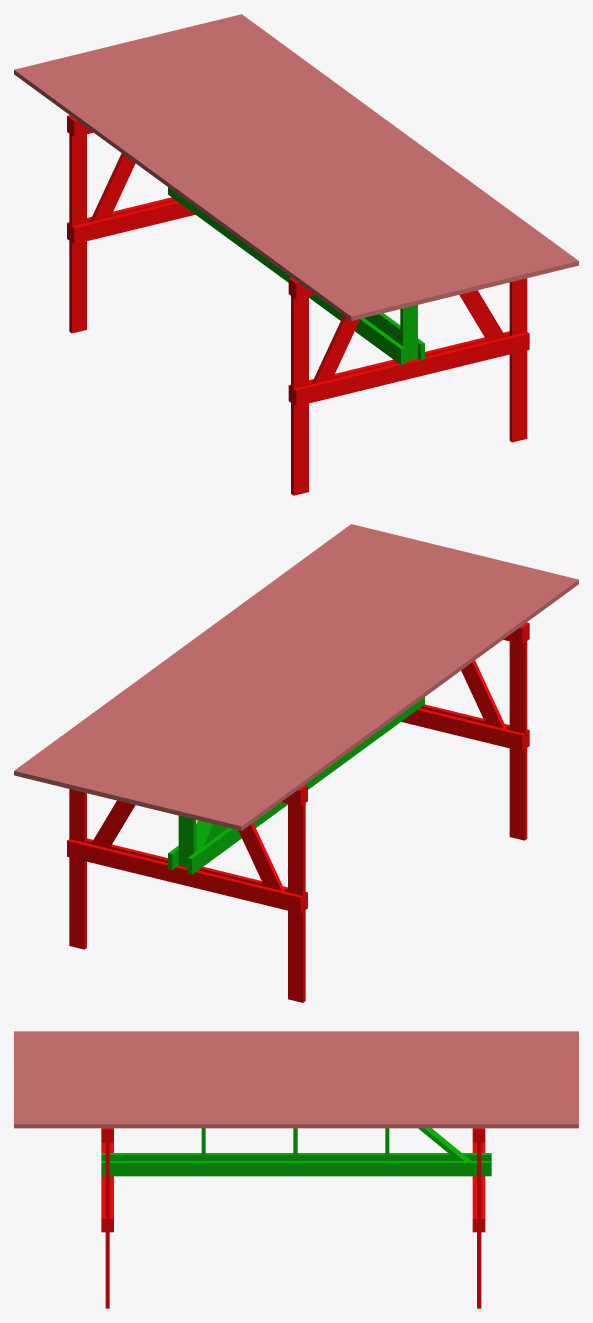
Rendered from result.glb.
3 views of the same model, one above another, from view 1: azimuth 30°, elevation 25°; view 2: azimuth 150°, elevation 25°; view 3: azimuth 270°, elevation 25° (orthographic). The views are drawn at different scales.
Parts seen in each view (by area): view 1: 9bc84eb1-03e1-45ee-a88c-ccbbb989a937__Box, c5a931a0-828d-4adb-a251-cc2c21c2d503__undefined, 3ec693f4-8fe5-41ec-811d-88a79b34b325__undefined, 540e3104-9ef1-44bf-827d-3d7c2c09de3e__undefined, bd70a412-14cf-4a78-8960-72526012d6fa__undefined, ecd26ba5-aca4-412c-b7bd-82bba1157a99__undefined, 86281dc9-8165-4b99-a383-774ae418dc2d__undefined, 9d4ee5ad-2588-4c36-90eb-bb3e7bf72439__undefined, 9155fd17-6712-49ab-812e-ac220a992259__undefined, f73ac96b-236f-46c5-87e6-874192650798__undefined, 0cfdb312-2d46-4ac2-af5d-affc9c7d1033__undefined, fdcb1d0b-4bd2-41e8-ae14-8c38de788567__undefined (+15 smaller); view 2: 9bc84eb1-03e1-45ee-a88c-ccbbb989a937__Box, f73ac96b-236f-46c5-87e6-874192650798__undefined, 9155fd17-6712-49ab-812e-ac220a992259__undefined, bd70a412-14cf-4a78-8960-72526012d6fa__undefined, de7d56db-246a-4881-ac97-5ee7680ed403__undefined, fdcb1d0b-4bd2-41e8-ae14-8c38de788567__undefined, 540e3104-9ef1-44bf-827d-3d7c2c09de3e__undefined, ecd26ba5-aca4-412c-b7bd-82bba1157a99__undefined, 3ec693f4-8fe5-41ec-811d-88a79b34b325__undefined, 9d4ee5ad-2588-4c36-90eb-bb3e7bf72439__undefined, 86281dc9-8165-4b99-a383-774ae418dc2d__undefined, c5a931a0-828d-4adb-a251-cc2c21c2d503__undefined (+14 smaller); view 3: 9d4ee5ad-2588-4c36-90eb-bb3e7bf72439__undefined, 5f4642fd-db75-4013-a054-c6bce34e5723__strutH, 9bc84eb1-03e1-45ee-a88c-ccbbb989a937__Box, c5a931a0-828d-4adb-a251-cc2c21c2d503__undefined, 9155fd17-6712-49ab-812e-ac220a992259__undefined, c77f9ac4-b38d-4050-8157-9424ea226b90__undefined, f73ac96b-236f-46c5-87e6-874192650798__undefined, 540e3104-9ef1-44bf-827d-3d7c2c09de3e__undefined, ecd26ba5-aca4-412c-b7bd-82bba1157a99__undefined, de7d56db-246a-4881-ac97-5ee7680ed403__undefined, d4083153-6d66-4f59-953f-f2ba21c75f4a__undefined, 0cfdb312-2d46-4ac2-af5d-affc9c7d1033__undefined (+8 smaller).
Part boxes in pixels (bbox=[...]): 9bc84eb1-03e1-45ee-a88c-ccbbb989a937__Box: bbox=[14, 66, 366, 320]; c5a931a0-828d-4adb-a251-cc2c21c2d503__undefined: bbox=[29, 62, 381, 317]; 3ec693f4-8fe5-41ec-811d-88a79b34b325__undefined: bbox=[196, 21, 548, 276]; 540e3104-9ef1-44bf-827d-3d7c2c09de3e__undefined: bbox=[105, 44, 457, 298]; bd70a412-14cf-4a78-8960-72526012d6fa__undefined: bbox=[60, 55, 411, 309]; ecd26ba5-aca4-412c-b7bd-82bba1157a99__undefined: bbox=[120, 40, 472, 294]; 86281dc9-8165-4b99-a383-774ae418dc2d__undefined: bbox=[211, 18, 563, 272]; 9d4ee5ad-2588-4c36-90eb-bb3e7bf72439__undefined: bbox=[227, 14, 578, 268]; 9155fd17-6712-49ab-812e-ac220a992259__undefined: bbox=[45, 58, 396, 313]; f73ac96b-236f-46c5-87e6-874192650798__undefined: bbox=[90, 47, 442, 302]; 0cfdb312-2d46-4ac2-af5d-affc9c7d1033__undefined: bbox=[166, 29, 518, 283]; fdcb1d0b-4bd2-41e8-ae14-8c38de788567__undefined: bbox=[181, 25, 533, 280]; 9bc84eb1-03e1-45ee-a88c-ccbbb989a937__Box: bbox=[226, 576, 578, 830]; f73ac96b-236f-46c5-87e6-874192650798__undefined: bbox=[150, 557, 502, 812]; 9155fd17-6712-49ab-812e-ac220a992259__undefined: bbox=[196, 568, 548, 823]; bd70a412-14cf-4a78-8960-72526012d6fa__undefined: bbox=[181, 565, 532, 819]; de7d56db-246a-4881-ac97-5ee7680ed403__undefined: bbox=[105, 546, 456, 801]; fdcb1d0b-4bd2-41e8-ae14-8c38de788567__undefined: bbox=[59, 535, 411, 789]; 540e3104-9ef1-44bf-827d-3d7c2c09de3e__undefined: bbox=[135, 553, 487, 808]; ecd26ba5-aca4-412c-b7bd-82bba1157a99__undefined: bbox=[120, 550, 471, 804]; 3ec693f4-8fe5-41ec-811d-88a79b34b325__undefined: bbox=[44, 531, 396, 786]; 9d4ee5ad-2588-4c36-90eb-bb3e7bf72439__undefined: bbox=[14, 524, 365, 778]; 86281dc9-8165-4b99-a383-774ae418dc2d__undefined: bbox=[29, 528, 380, 782]; c5a931a0-828d-4adb-a251-cc2c21c2d503__undefined: bbox=[211, 572, 563, 827]; 9d4ee5ad-2588-4c36-90eb-bb3e7bf72439__undefined: bbox=[14, 1118, 578, 1128]; 5f4642fd-db75-4013-a054-c6bce34e5723__strutH: bbox=[101, 1161, 491, 1176]; 9bc84eb1-03e1-45ee-a88c-ccbbb989a937__Box: bbox=[14, 1031, 578, 1037]; c5a931a0-828d-4adb-a251-cc2c21c2d503__undefined: bbox=[14, 1037, 578, 1043]; 9155fd17-6712-49ab-812e-ac220a992259__undefined: bbox=[14, 1043, 578, 1049]; c77f9ac4-b38d-4050-8157-9424ea226b90__undefined: bbox=[14, 1056, 578, 1062]; f73ac96b-236f-46c5-87e6-874192650798__undefined: bbox=[14, 1062, 578, 1068]; 540e3104-9ef1-44bf-827d-3d7c2c09de3e__undefined: bbox=[14, 1068, 578, 1074]; ecd26ba5-aca4-412c-b7bd-82bba1157a99__undefined: bbox=[14, 1074, 578, 1080]; de7d56db-246a-4881-ac97-5ee7680ed403__undefined: bbox=[14, 1081, 578, 1087]; d4083153-6d66-4f59-953f-f2ba21c75f4a__undefined: bbox=[14, 1087, 578, 1093]; 0cfdb312-2d46-4ac2-af5d-affc9c7d1033__undefined: bbox=[14, 1093, 578, 1099].
Size of the model in its own units: 800 by 715 by 2000.
